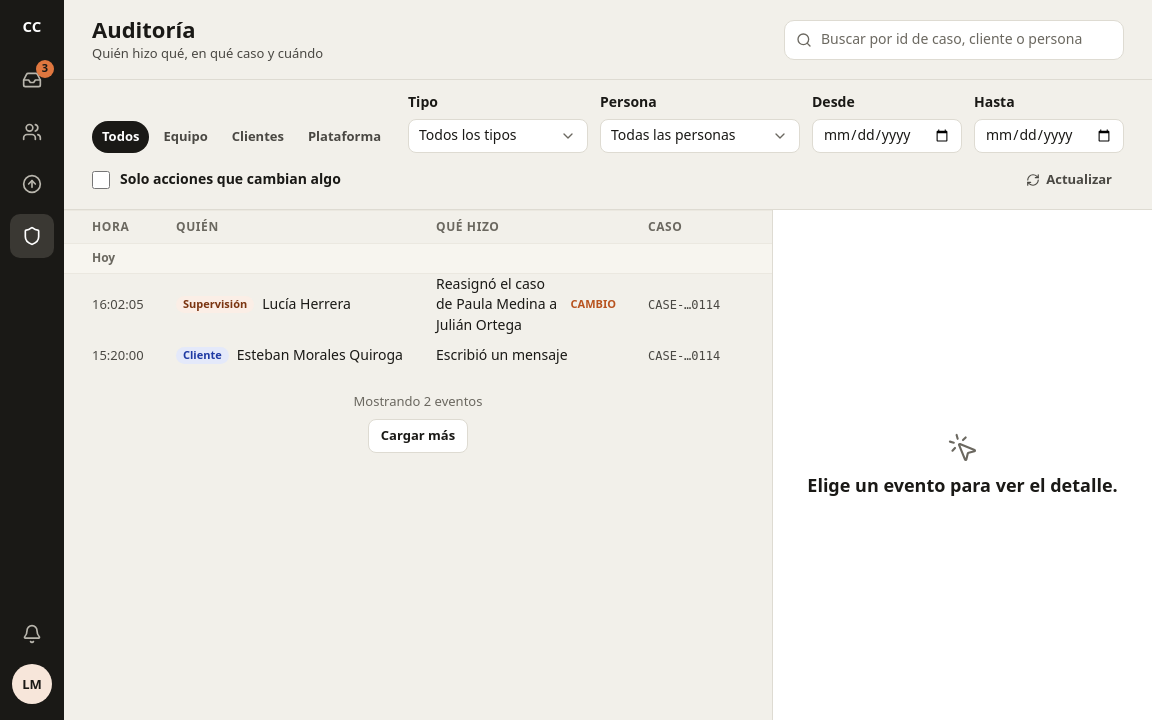
audit (supervision) › loads more pages with the cursor
Expected: the text "Mostrando 2 eventos" is shown, [354,392,482,411]
Click the button "Cargar más": (418, 436) [368,419,468,453]
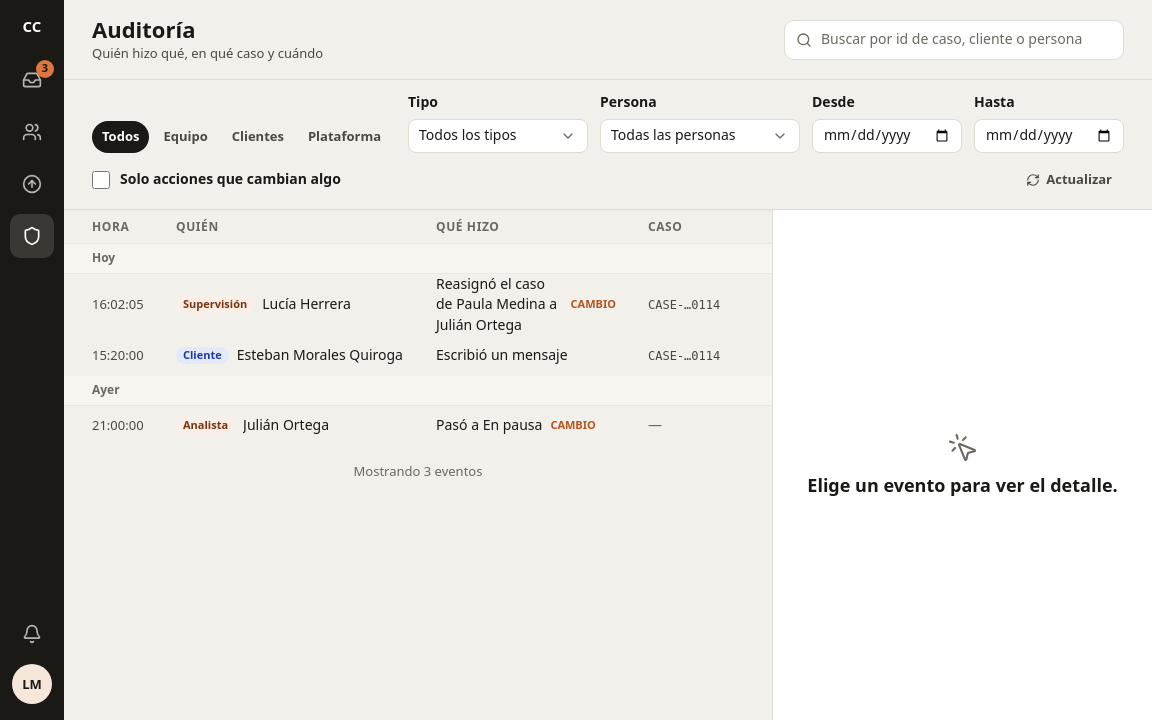
Result: the text "Mostrando 3 eventos" is shown at [354,462,482,481]
Result: the button "Cargar más" is gone
